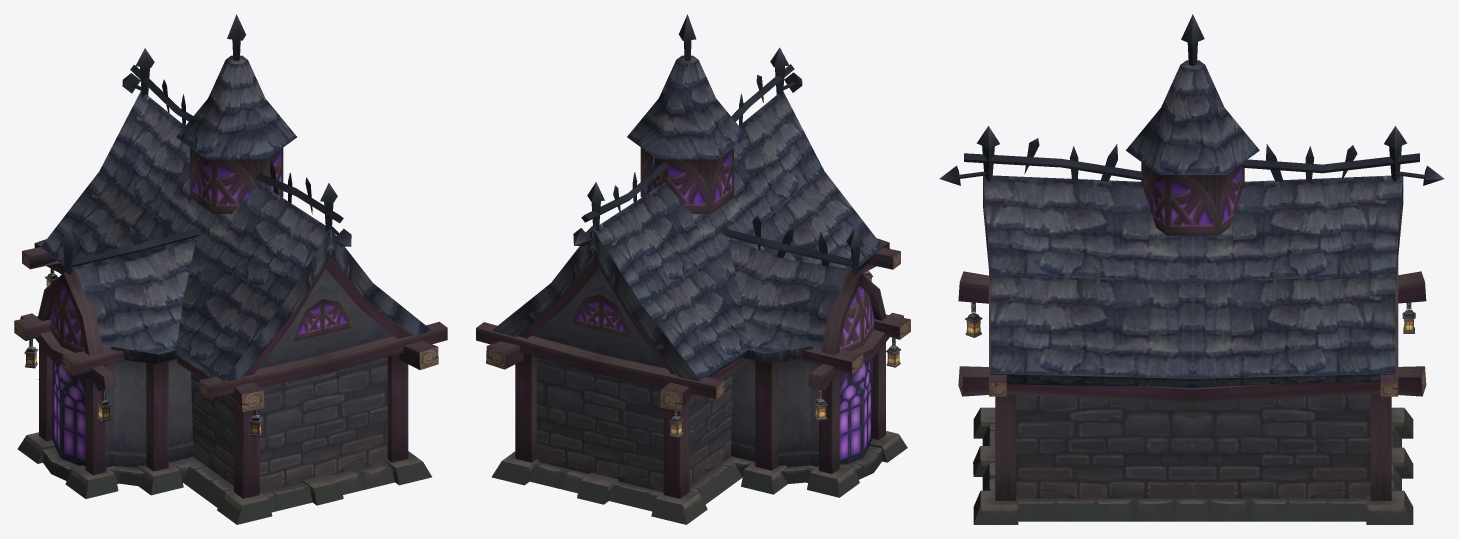
File: hacz_fangwu_01.FBX
3 renders of one model, left to right at view 1: azimuth 30°, elevation 25°; view 2: azimuth 150°, elevation 25°; view 3: azimuth 270°, elevation 25°, orthographic. The views are drawn at different scales.
Visible parts, largest first — view 1: hacz_fangwu_01; view 2: hacz_fangwu_01; view 3: hacz_fangwu_01.
Boxes of the visible parts, left/top/right/bottom form: hacz_fangwu_01: left=14, top=14, right=447, bottom=524; hacz_fangwu_01: left=476, top=14, right=910, bottom=524; hacz_fangwu_01: left=939, top=14, right=1444, bottom=524.
Bounding box in the file's own units: 1033 × 1310 × 1308.
